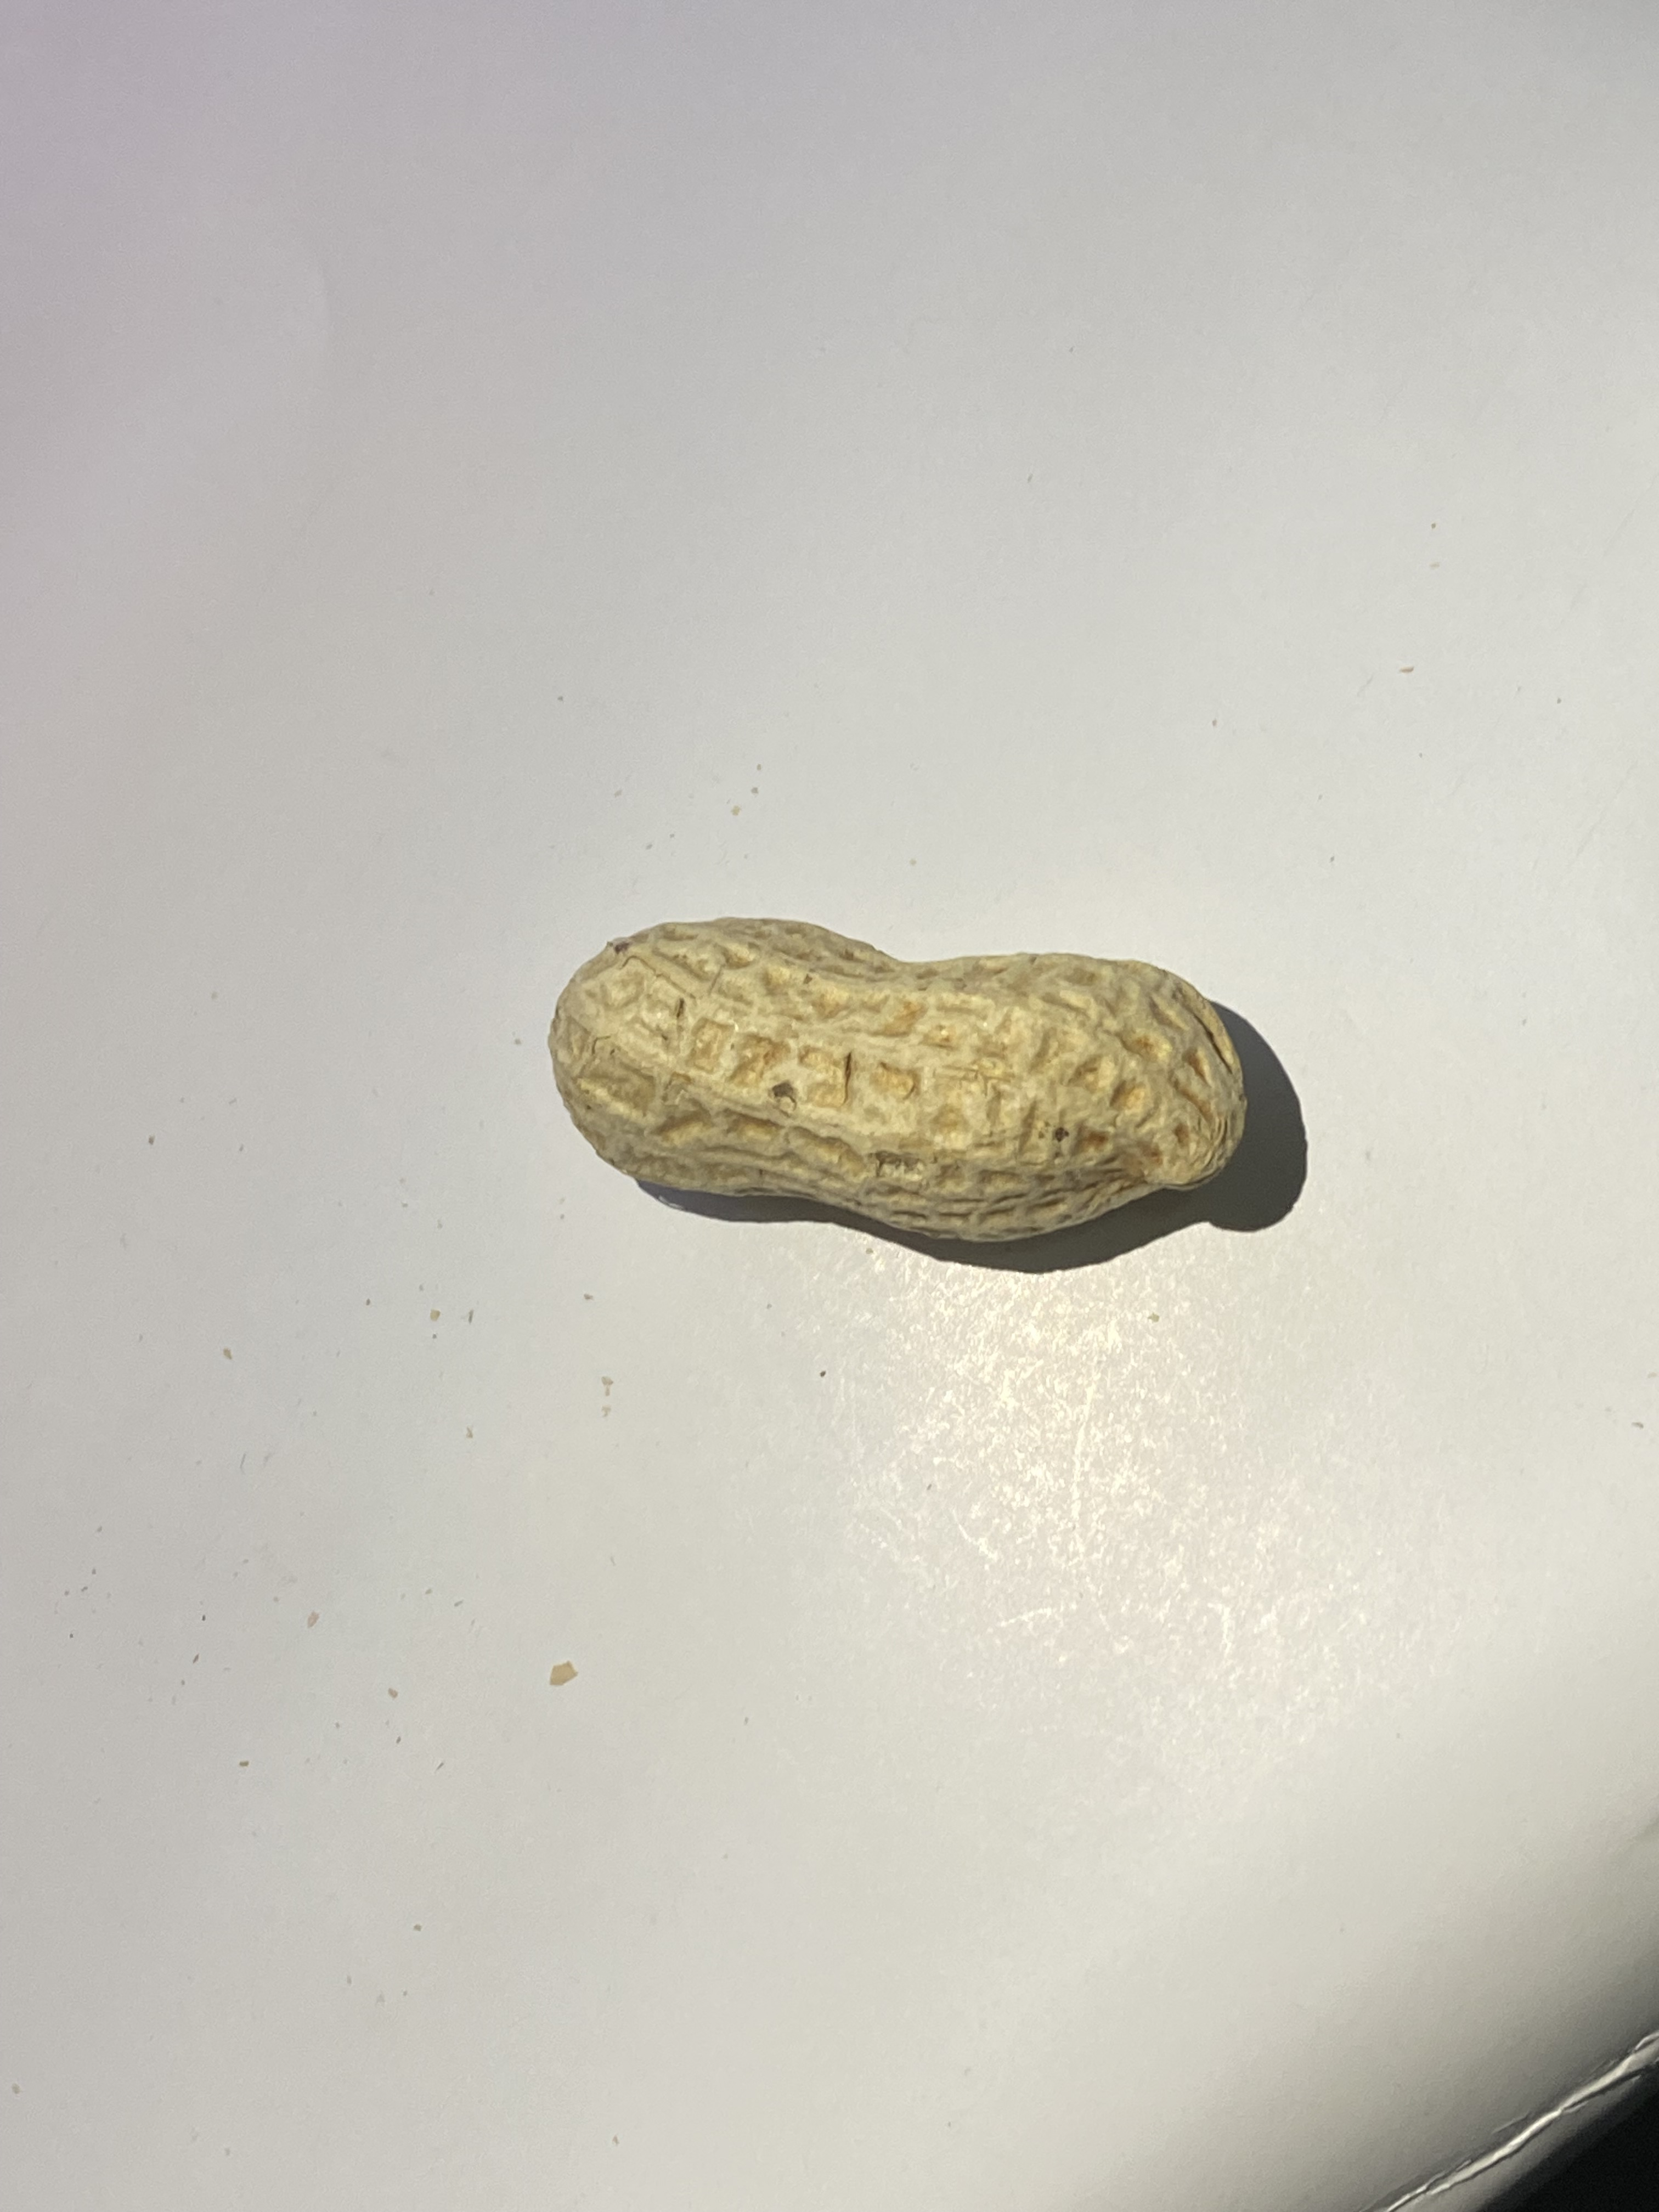kacang2: (488, 900, 1307, 1261)
